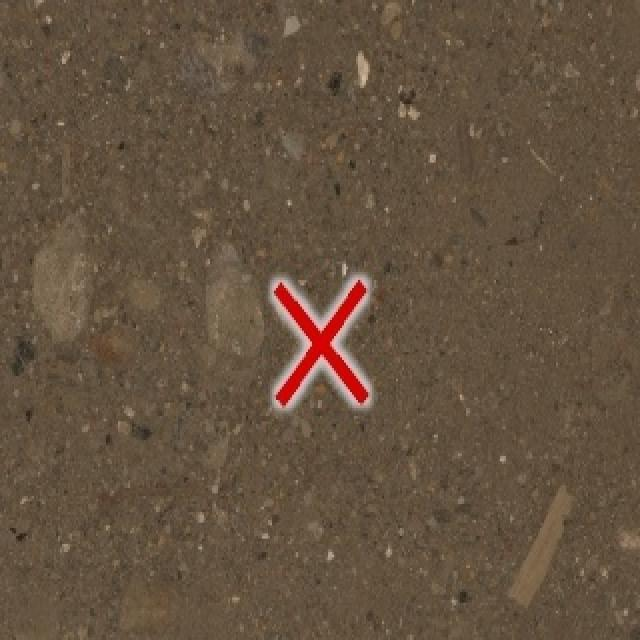x_marker: (273, 279, 367, 404)
